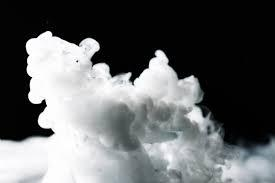smoke: (13, 28, 238, 183)
